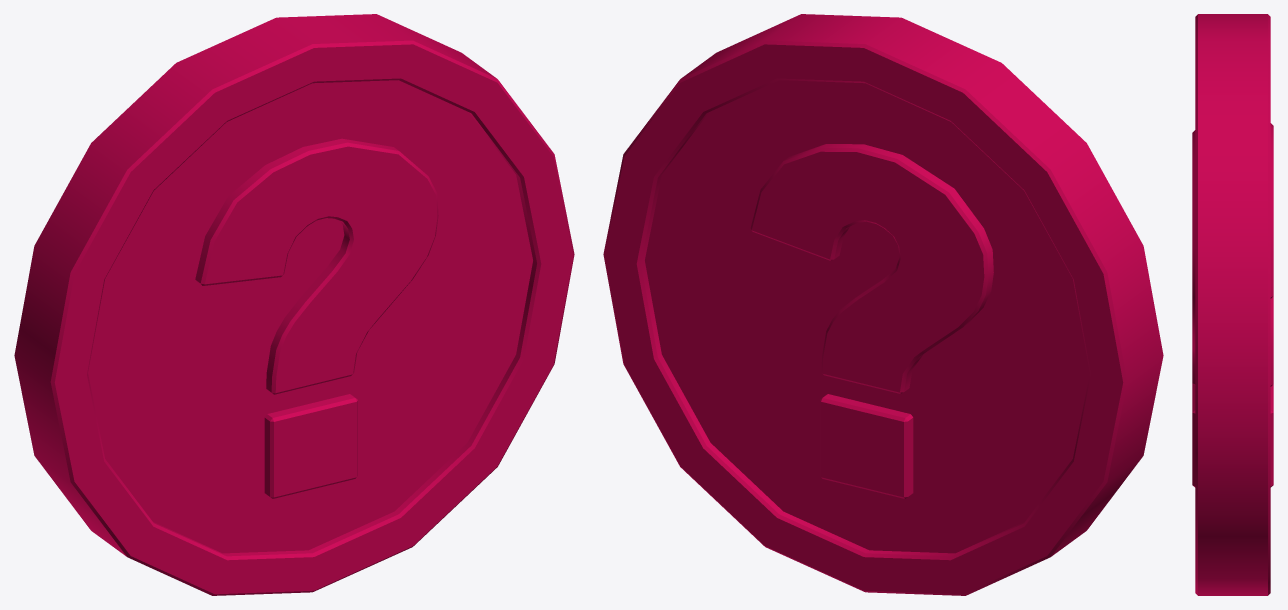
File: PickupCoin.fbx
The picture shows the model from 3 angles, left to right: view 1: azimuth 30°, elevation 25°; view 2: azimuth 150°, elevation 25°; view 3: azimuth 270°, elevation 25°; orthographic projection. The views are drawn at different scales.
Visible parts, largest first — view 1: PickupCoin; view 2: PickupCoin; view 3: PickupCoin.
Boxes of the visible parts, left/top/right/bottom form: PickupCoin: left=14, top=14, right=574, bottom=595; PickupCoin: left=603, top=14, right=1163, bottom=595; PickupCoin: left=1192, top=14, right=1273, bottom=595.
Bounding box in the file's own units: 2 × 2 × 0.2784.
